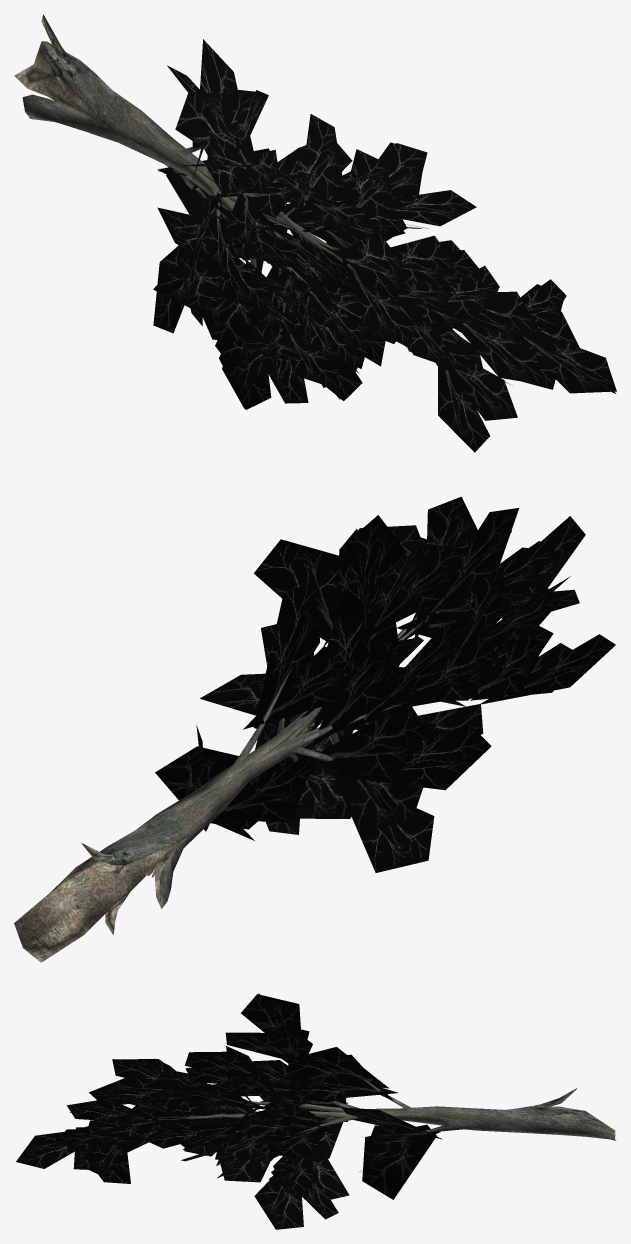
Rendered from tree_destroyed_fallen_tree_a.glb.
3 views of the same model, one above another, from view 1: azimuth 30°, elevation 25°; view 2: azimuth 150°, elevation 25°; view 3: azimuth 270°, elevation 25° (orthographic). The views are drawn at different scales.
Size of the model in its own units: 105 by 122 by 329.
Materials: 2 (2 with a texture image).
